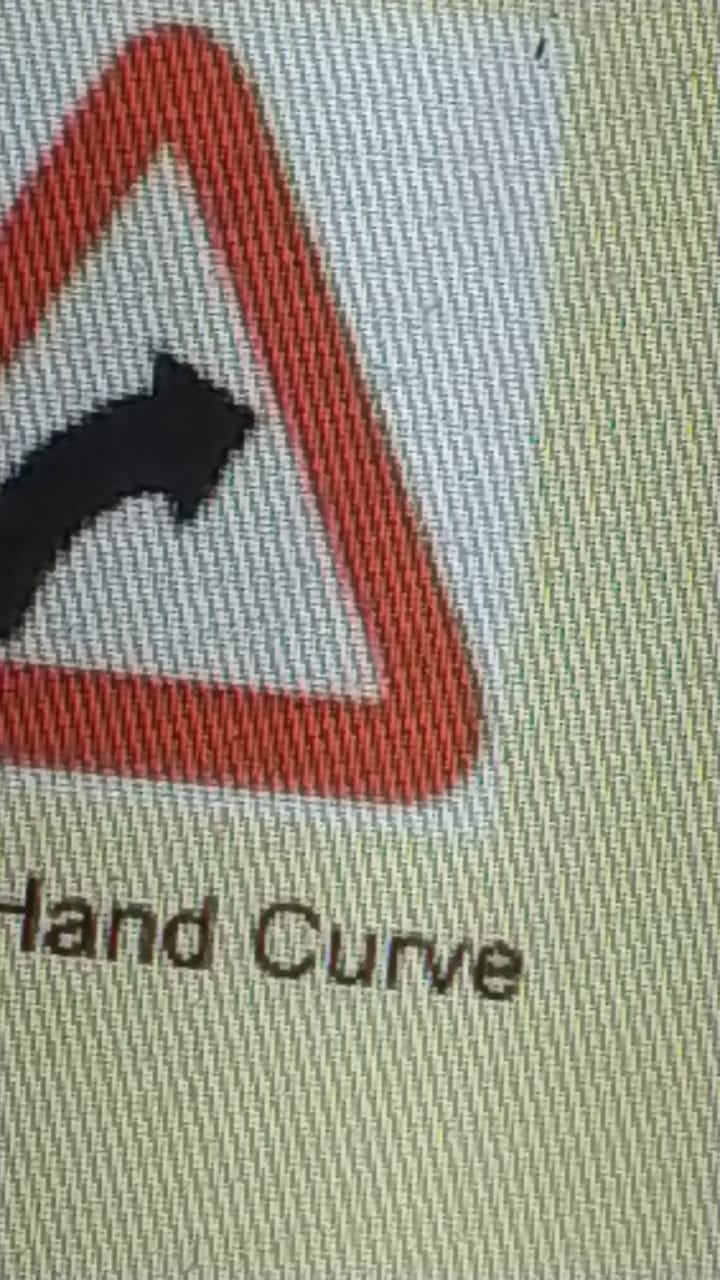RIGHT CURVE: (1, 17, 531, 838)
